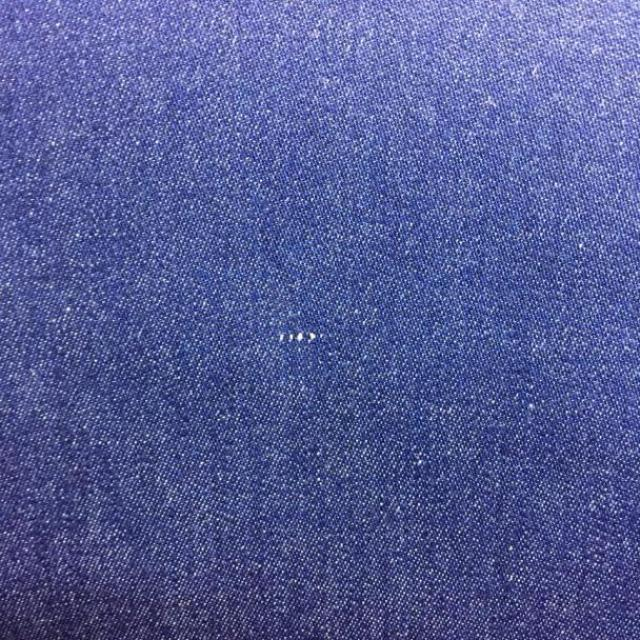Knot: (279, 333, 319, 344)
